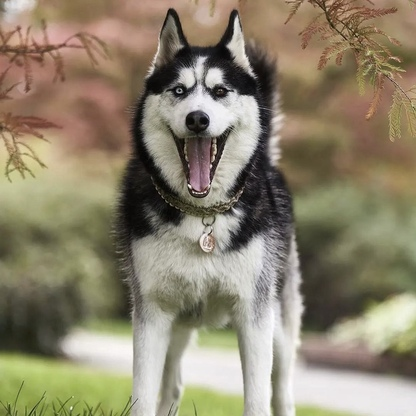husky: (110, 4, 314, 416)
